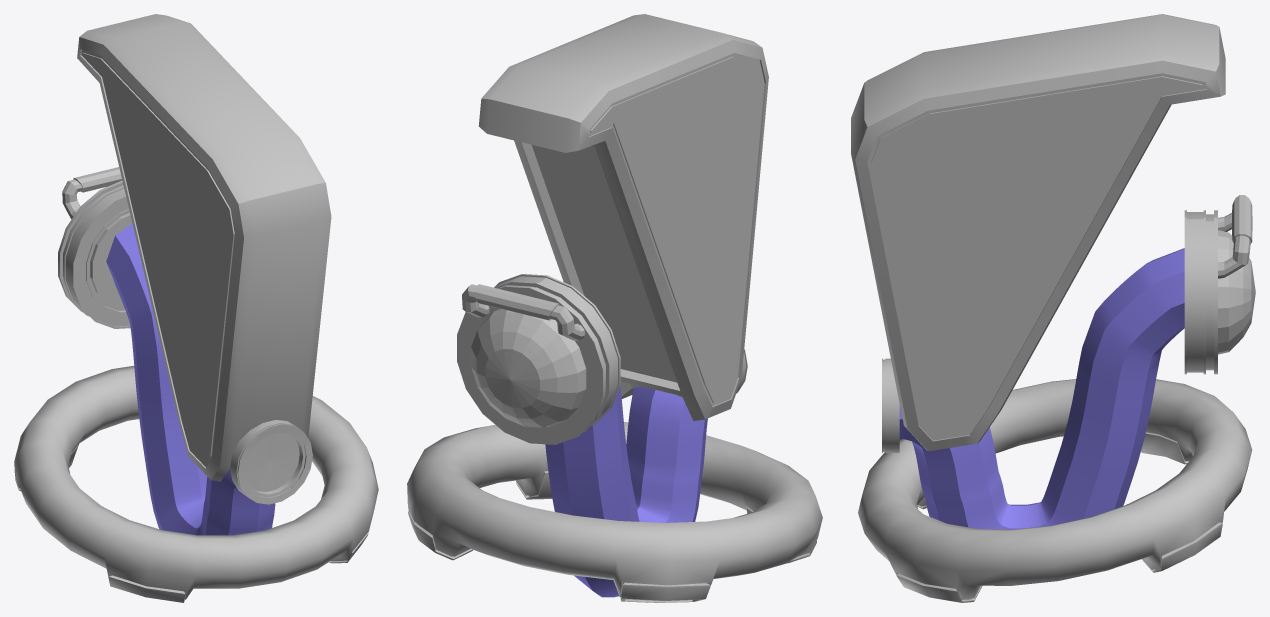
3 views of the same model, side by side, from view 1: azimuth 30°, elevation 25°; view 2: azimuth 150°, elevation 25°; view 3: azimuth 270°, elevation 25° (orthographic). The views are drawn at different scales.
Visible parts, largest first — view 1: Plane003, Torus001, Line001, Cylinder002, Cylinder001; view 2: Plane003, Torus001, Cylinder002, Line001; view 3: Plane003, Torus001, Line001, Cylinder002, Cylinder001.
Part boxes in pixels (box(x1,y1,x2,y2)): Plane003: box(77, 14, 331, 481); Torus001: box(14, 365, 378, 602); Line001: box(106, 223, 275, 535); Cylinder002: box(58, 167, 132, 328); Cylinder001: box(230, 420, 312, 504); Plane003: box(478, 14, 768, 420); Torus001: box(407, 422, 822, 602); Cylinder002: box(457, 274, 620, 444); Line001: box(545, 385, 707, 597); Plane003: box(851, 14, 1225, 451); Torus001: box(858, 379, 1252, 602); Line001: box(899, 248, 1184, 529); Cylinder002: box(1184, 195, 1255, 374); Cylinder001: box(882, 358, 899, 452).
Bounding box in the file's own units: 102 × 152 × 103.
